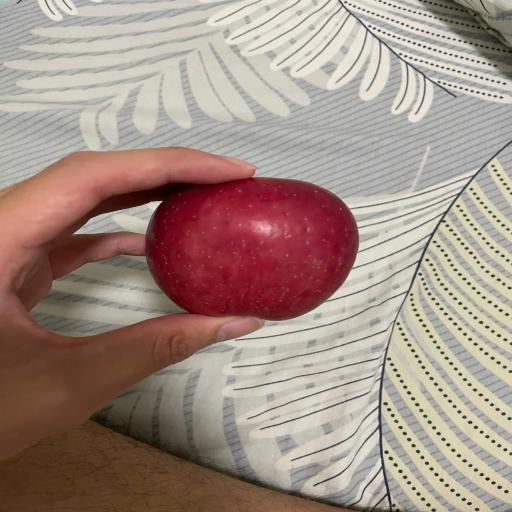apple: (146, 178, 358, 320)
